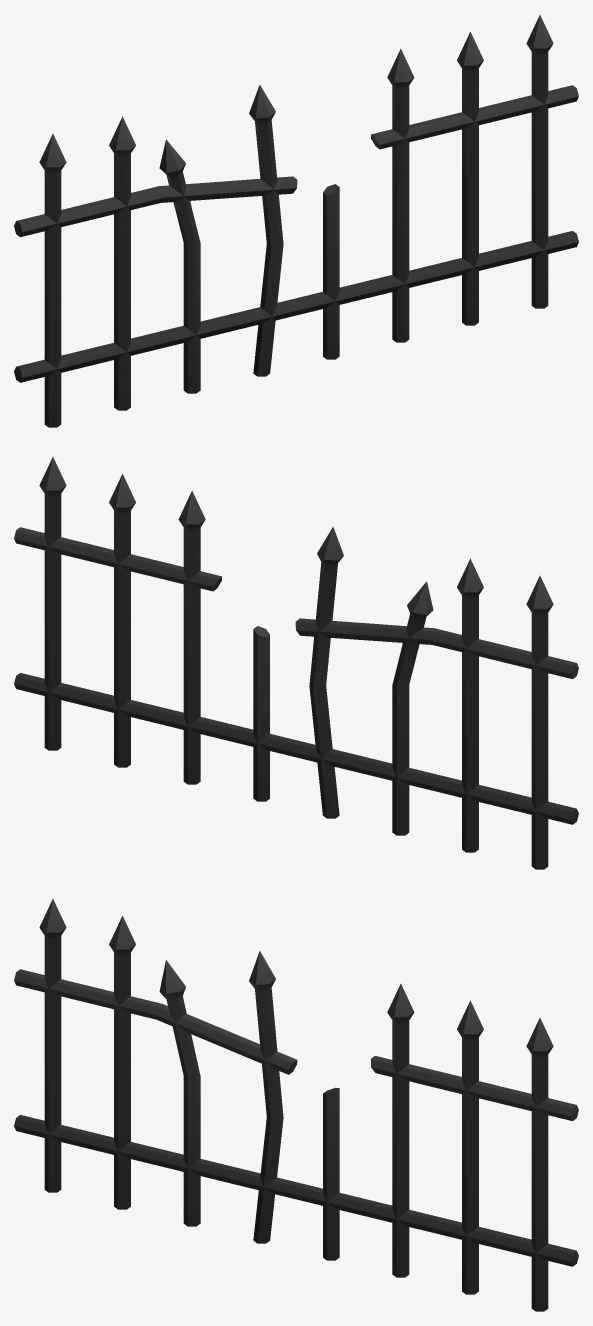
Rendered from fence_seperate_broken.glb.
The picture shows the model from 3 angles, top to bottom: view 1: azimuth 30°, elevation 25°; view 2: azimuth 150°, elevation 25°; view 3: azimuth 330°, elevation 25°; orthographic projection.
Parts seen in each view (by area): view 1: fence_seperate_broken; view 2: fence_seperate_broken; view 3: fence_seperate_broken.
Boxes of the visible parts, left/top/right/bottom form: fence_seperate_broken: left=14, top=15, right=578, bottom=427; fence_seperate_broken: left=14, top=457, right=578, bottom=869; fence_seperate_broken: left=14, top=899, right=578, bottom=1311.
Bounding box in the file's own units: 4 × 2 × 0.1694.
Materials: 1 (1 with a texture image).
